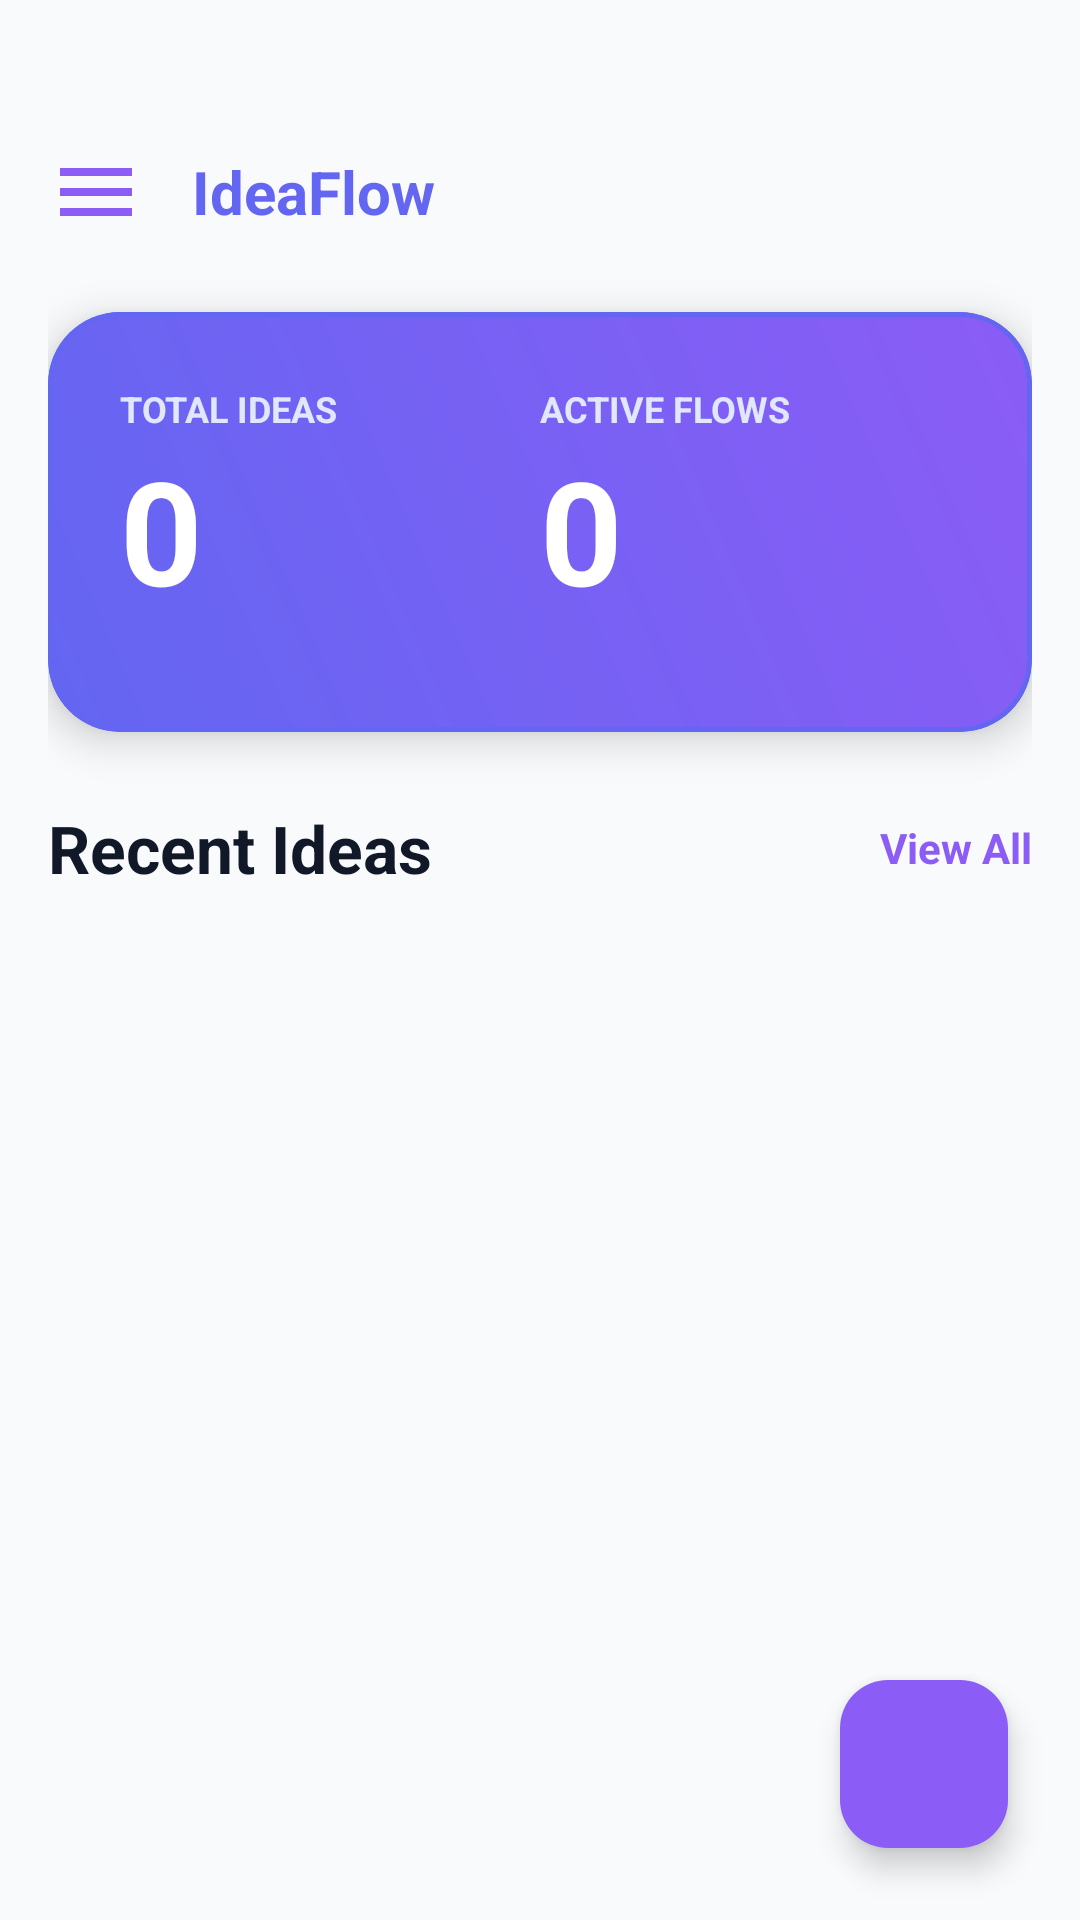

Icons on this 1080 x 1920 Android screen, each with the point to tap as (x,y):
menu: (96,192)
